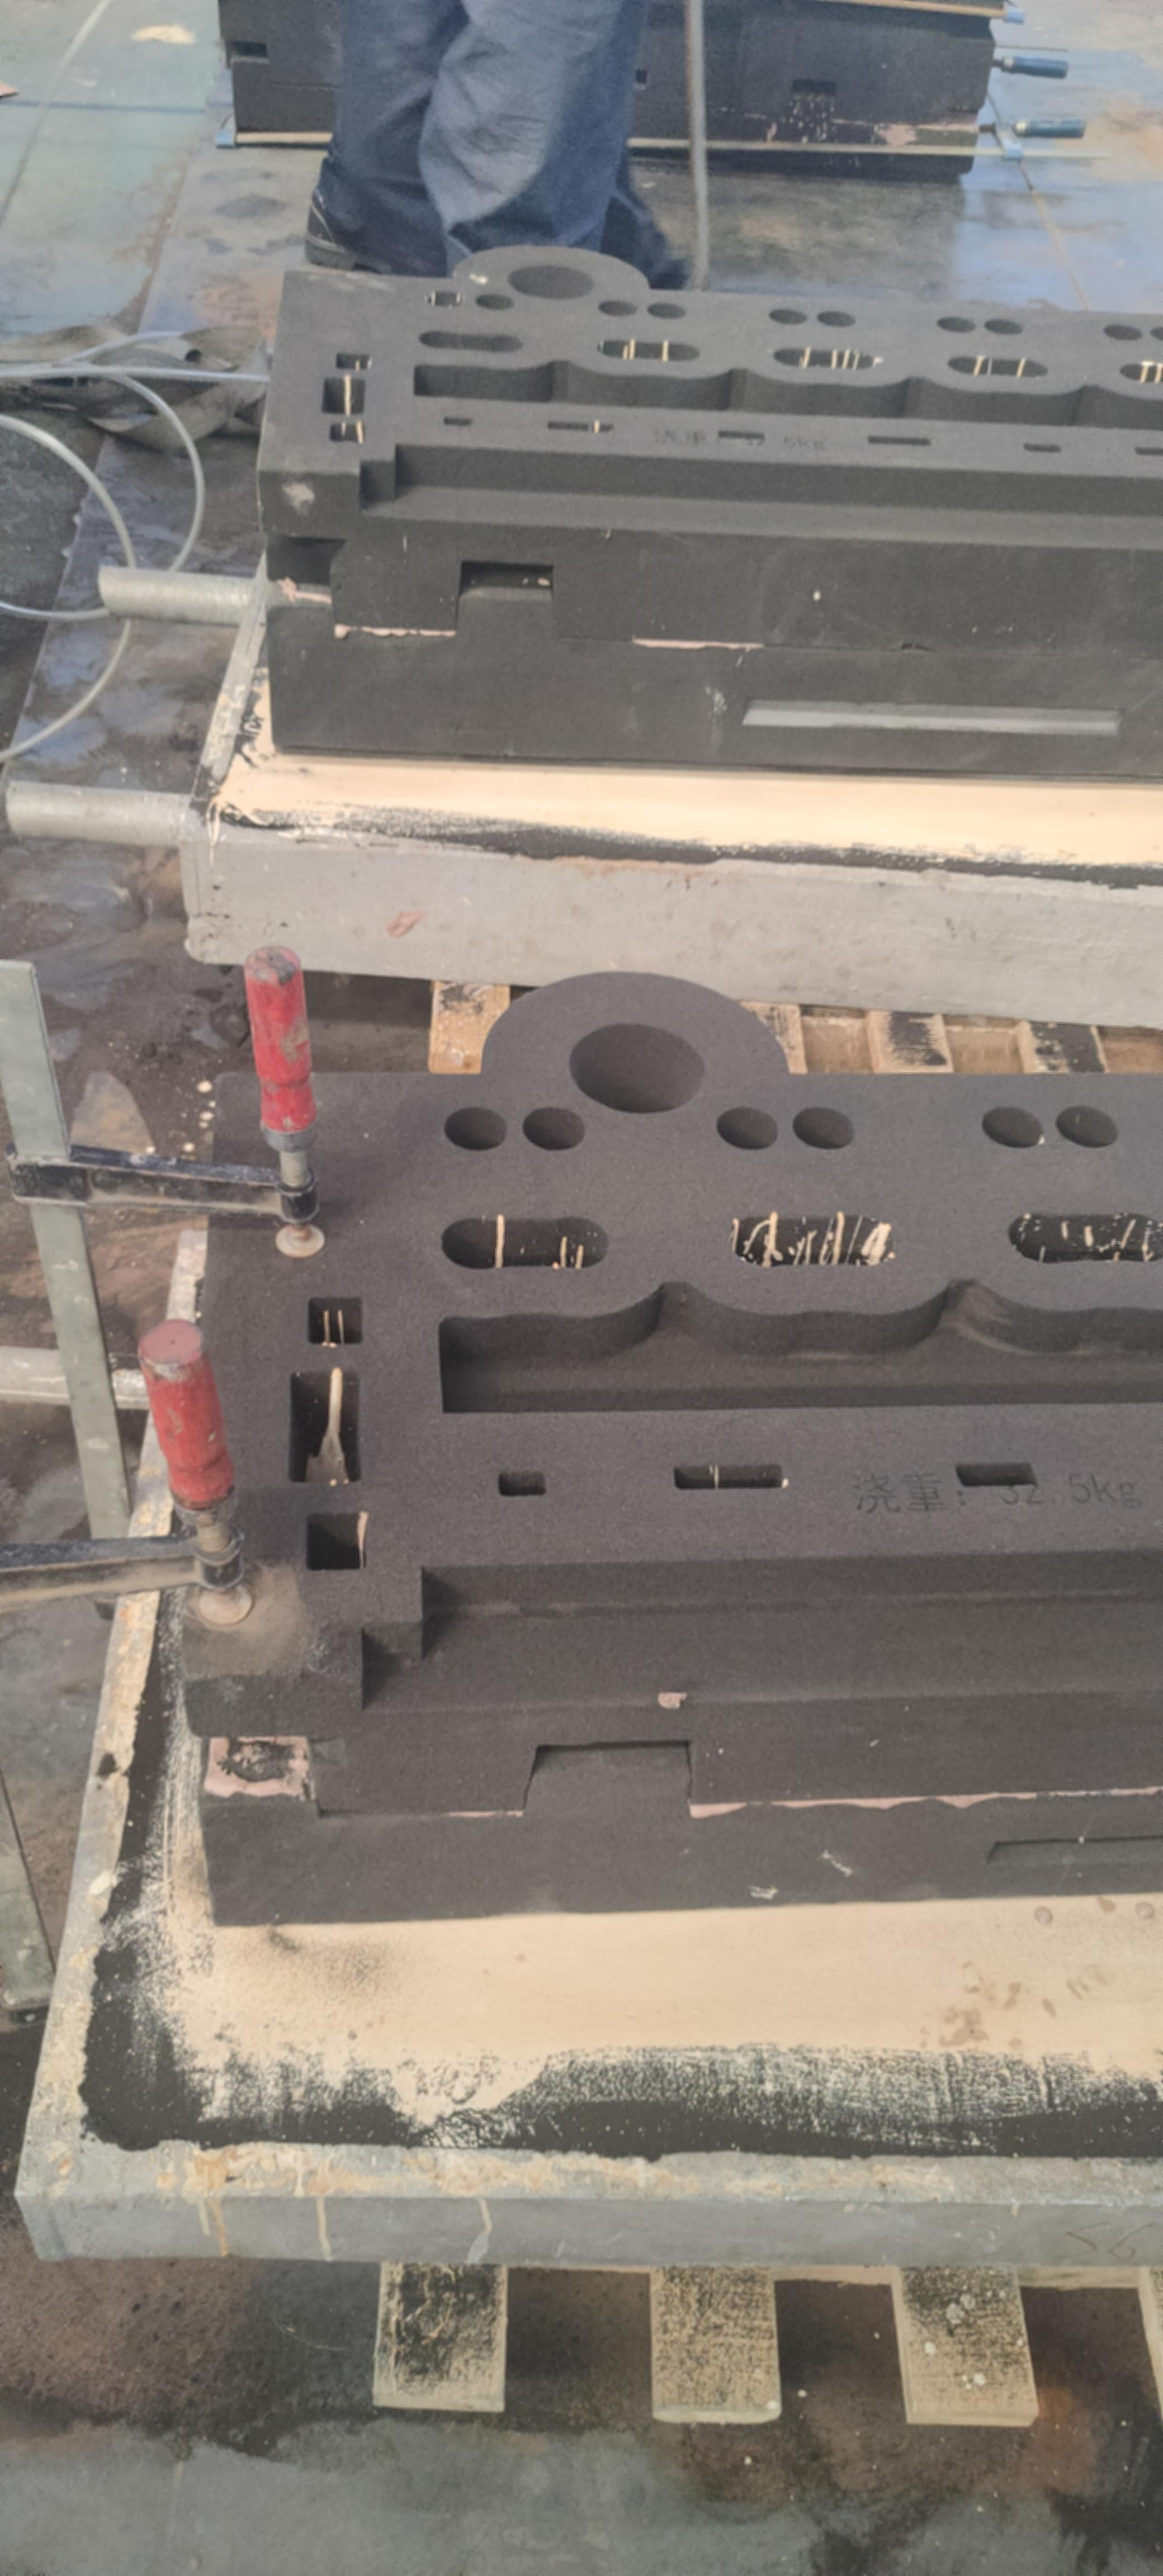pouring hole: (563, 1022, 711, 1117), (508, 264, 595, 302)
